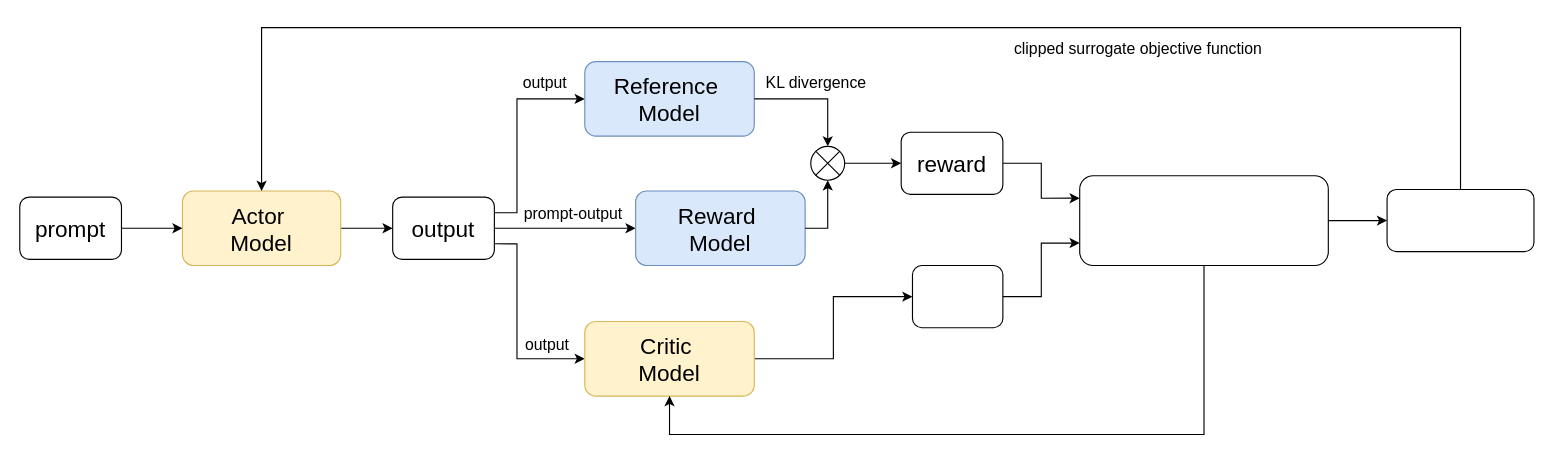
This 1554x463 diagram has some shape labels left out. Here are the shapes that lost their labels. From the top down, the centre of each, then its label:
At point 1203,220: "Generalized Advantage Estimation (GAE)".
At point 1460,220: "Advantage".
At point 957,296: "value".
